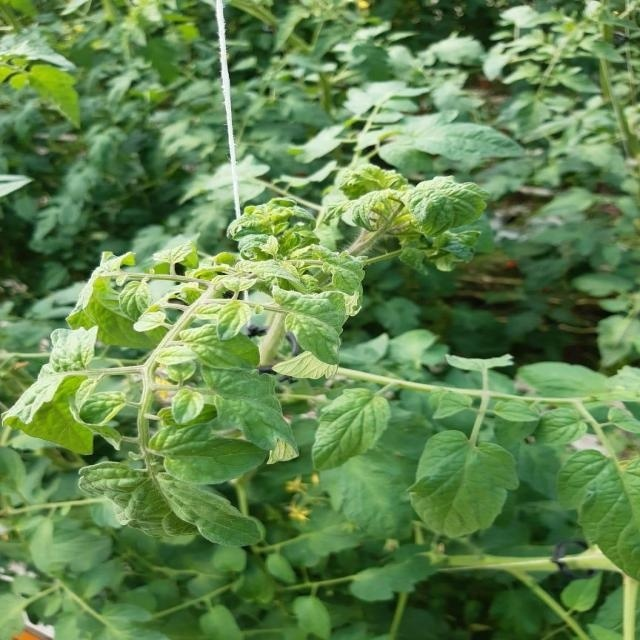T_L_H: (408, 432, 520, 538), (559, 451, 640, 580), (156, 474, 260, 547), (312, 390, 391, 471), (404, 176, 491, 237)
T_L_R: (80, 463, 197, 539), (148, 425, 266, 485), (181, 325, 259, 370), (288, 315, 341, 365), (81, 392, 128, 425), (218, 301, 253, 342), (173, 390, 204, 425)
